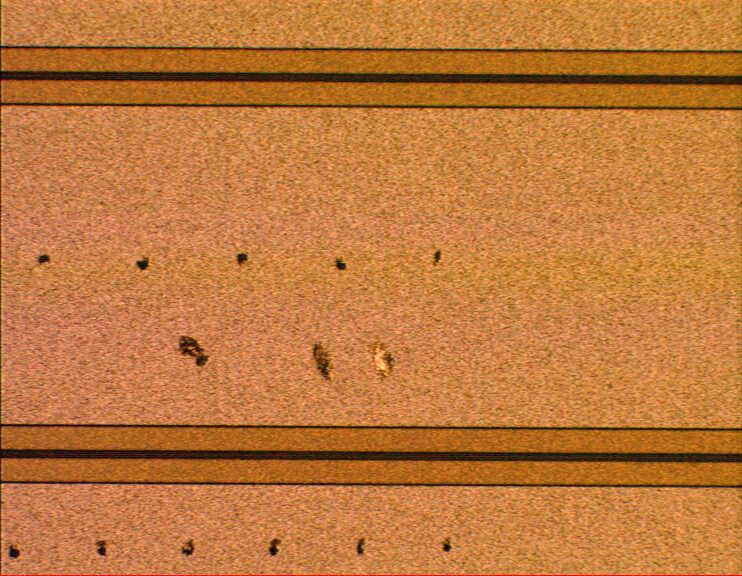SCRATCH: (156, 322, 415, 386)
